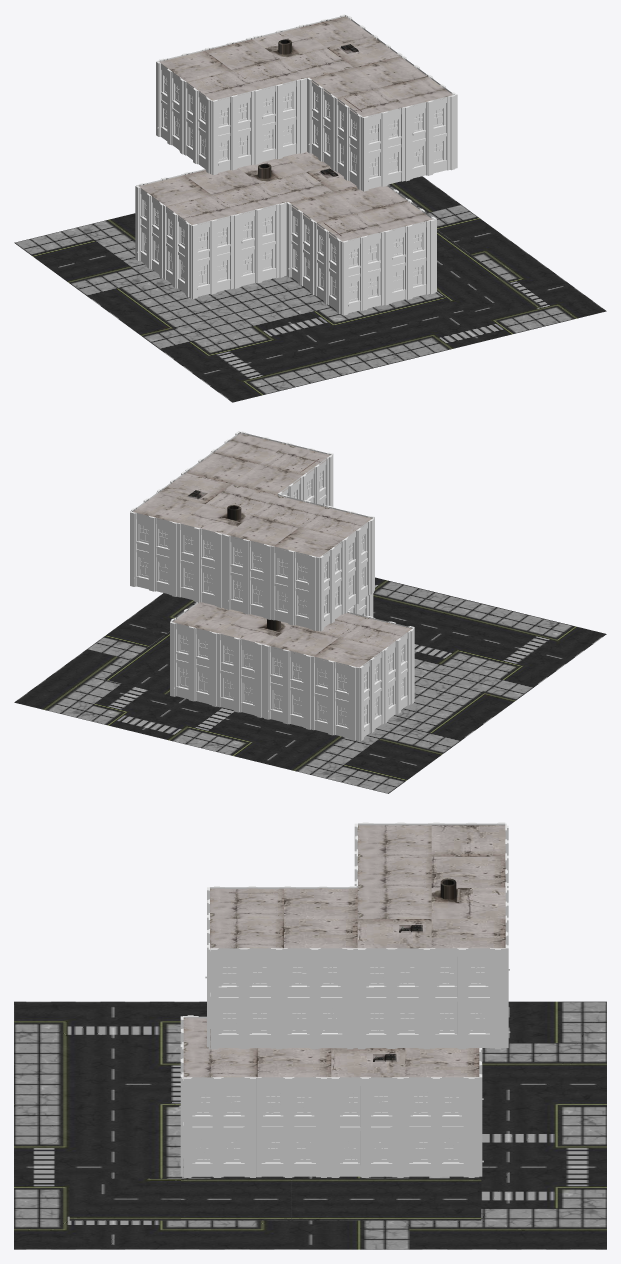
Rendered from home.glb.
3 views of the same model, one above another, from view 1: azimuth 30°, elevation 25°; view 2: azimuth 150°, elevation 25°; view 3: azimuth 270°, elevation 25° (orthographic). The views are drawn at different scales.
Visible parts, largest first — view 1: Plane.001, HAUSKOPIE, Plane.006, jarichtig, jarichtig.004, jarichtig.003, jarichtig.001; view 2: Plane.001, HAUSKOPIE, jarichtig.002, jarichtig.005, Plane.006, jarichtig.003; view 3: Plane.001, HAUSKOPIE, jarichtig.006, jarichtig.007, Plane.006, jarichtig.004.
Boxes of the visible parts, x1=… form: Plane.001: x1=14, y1=176, x2=606, y2=402; HAUSKOPIE: x1=156, y1=14, x2=457, y2=191; Plane.006: x1=139, y1=151, x2=432, y2=241; jarichtig: x1=191, y1=202, x2=286, y2=298; jarichtig.004: x1=342, y1=218, x2=436, y2=315; jarichtig.003: x1=135, y1=185, x2=191, y2=298; jarichtig.001: x1=286, y1=202, x2=342, y2=314; Plane.001: x1=14, y1=577, x2=606, y2=793; HAUSKOPIE: x1=130, y1=431, x2=374, y2=631; jarichtig.002: x1=264, y1=645, x2=359, y2=741; jarichtig.005: x1=170, y1=622, x2=264, y2=717; Plane.006: x1=173, y1=602, x2=411, y2=667; jarichtig.003: x1=359, y1=628, x2=414, y2=741; Plane.001: x1=14, y1=1001, x2=606, y2=1249; HAUSKOPIE: x1=205, y1=822, x2=510, y2=1049; jarichtig.006: x1=331, y1=1077, x2=479, y2=1177; jarichtig.007: x1=184, y1=1077, x2=331, y2=1177; Plane.006: x1=183, y1=1017, x2=479, y2=1078; jarichtig.004: x1=179, y1=1016, x2=183, y2=1178.
Size of the model in its own units: 67.28 by 32.95 by 67.97.
9 materials, 2 textured.
